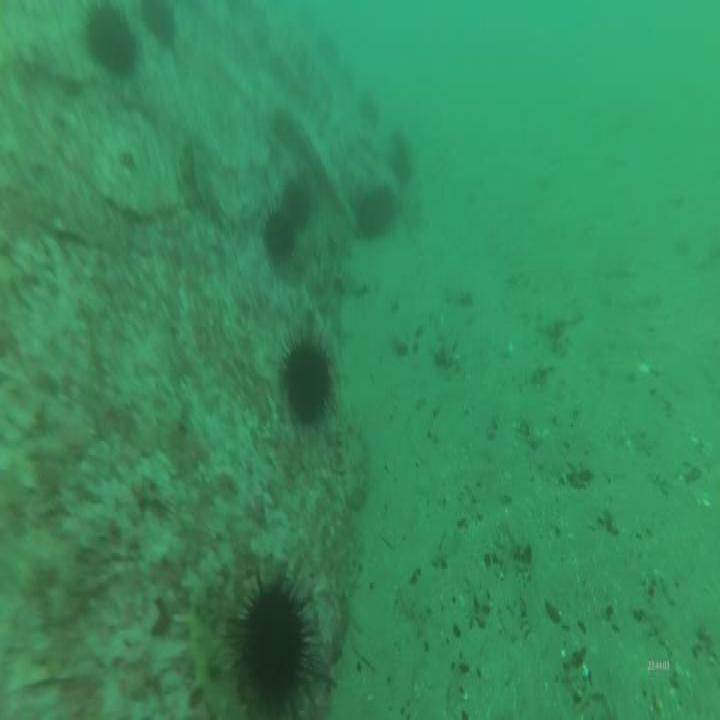echinus: (222, 551, 335, 720), (278, 320, 339, 436), (81, 0, 142, 85), (127, 0, 181, 62), (260, 197, 298, 279), (353, 183, 392, 249), (278, 174, 313, 236), (386, 128, 416, 188), (353, 86, 385, 132), (314, 25, 340, 69)
holothurian: (176, 572, 251, 720), (334, 414, 373, 516)
